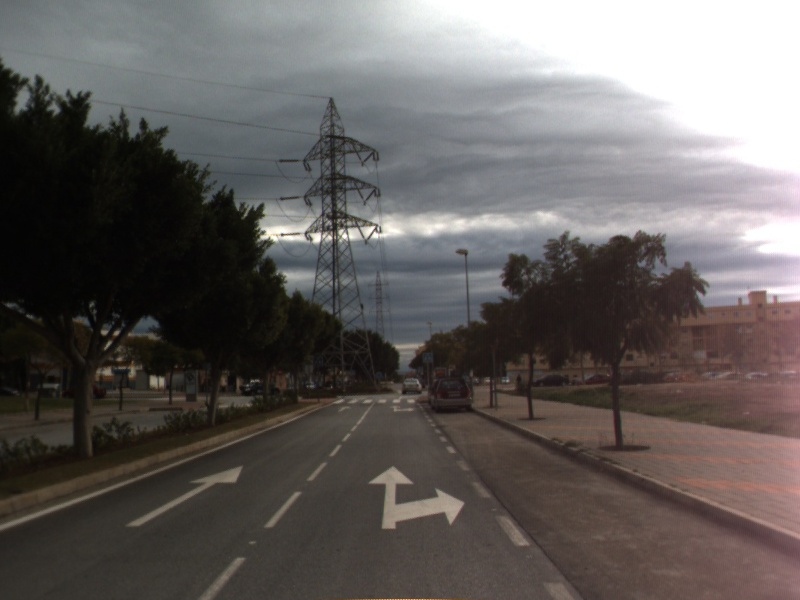STRAIGHT: (123, 464, 245, 529), (335, 404, 354, 414)
STRAIGHT_RIGHT: (366, 464, 467, 531), (388, 403, 418, 413)
